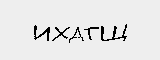Д: (71, 25, 84, 44)
И: (32, 24, 52, 40)
Т: (82, 24, 100, 40)
Х: (54, 24, 70, 41)
Щ: (99, 22, 129, 44)
